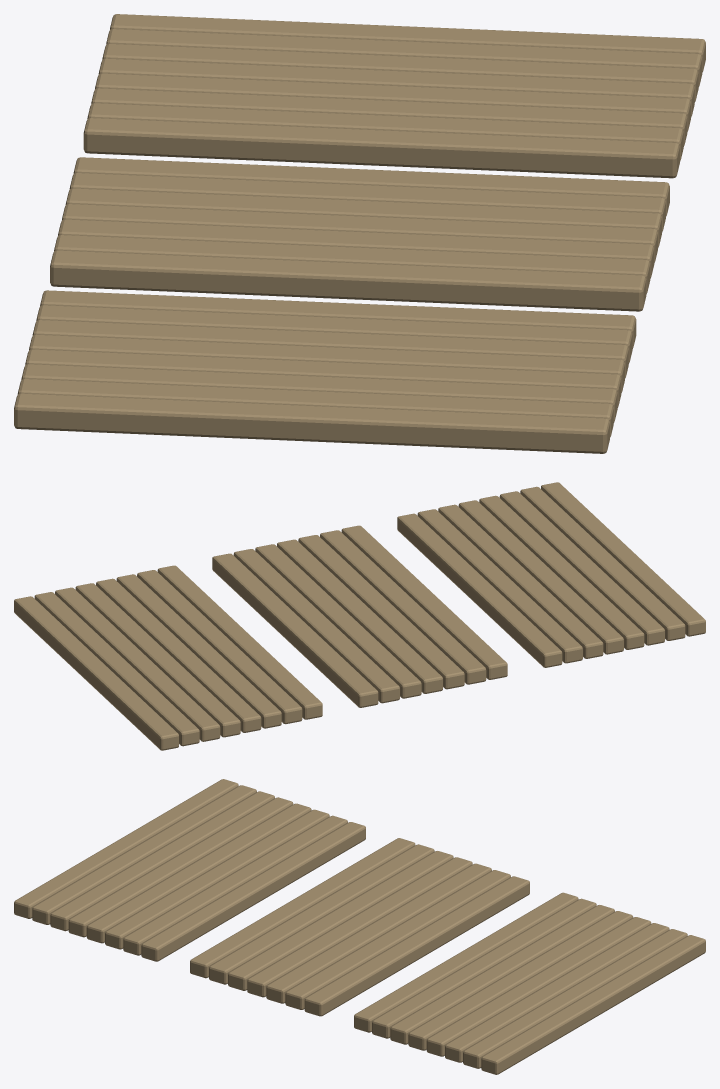
Rendered from SM_PedestrianCrossing.fbx.
3 renders of one model, top to bottom at view 1: azimuth 30°, elevation 25°; view 2: azimuth 150°, elevation 25°; view 3: azimuth 270°, elevation 25°, orthographic. The views are drawn at different scales.
Visible parts, largest first — view 1: SM_PedestrianCrossing; view 2: SM_PedestrianCrossing; view 3: SM_PedestrianCrossing.
Part boxes in pixels (left/top/right/bottom): SM_PedestrianCrossing: left=14, top=14, right=705, bottom=453; SM_PedestrianCrossing: left=14, top=482, right=705, bottom=750; SM_PedestrianCrossing: left=14, top=779, right=705, bottom=1074.
Size of the model in its own units: 480 by 521 by 23.39.
